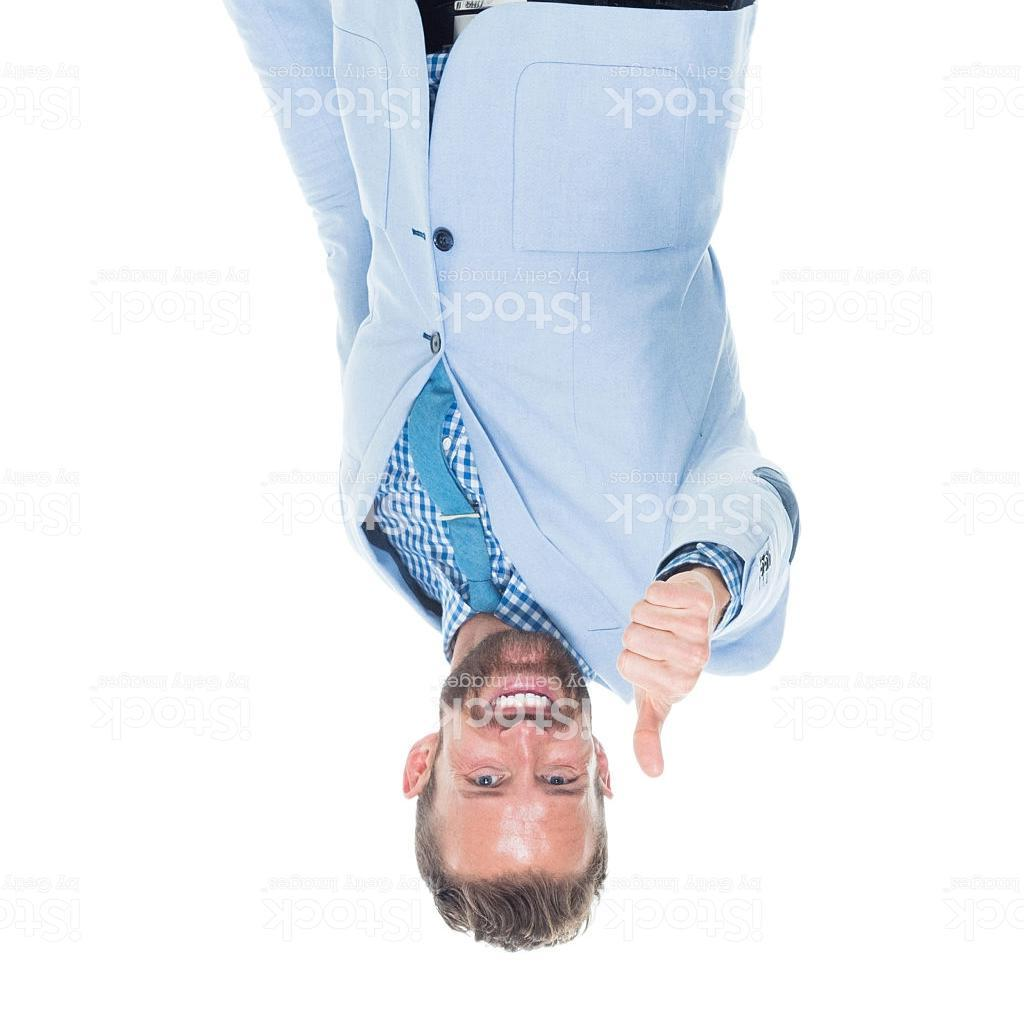thumbsdown: (617, 569, 719, 781)
